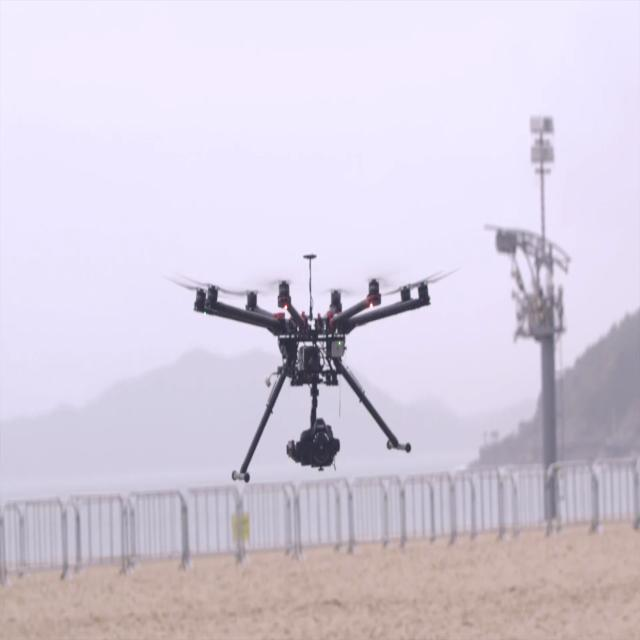drone: (199, 241, 418, 502)
